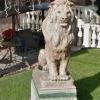Statue: (35, 0, 83, 81)
